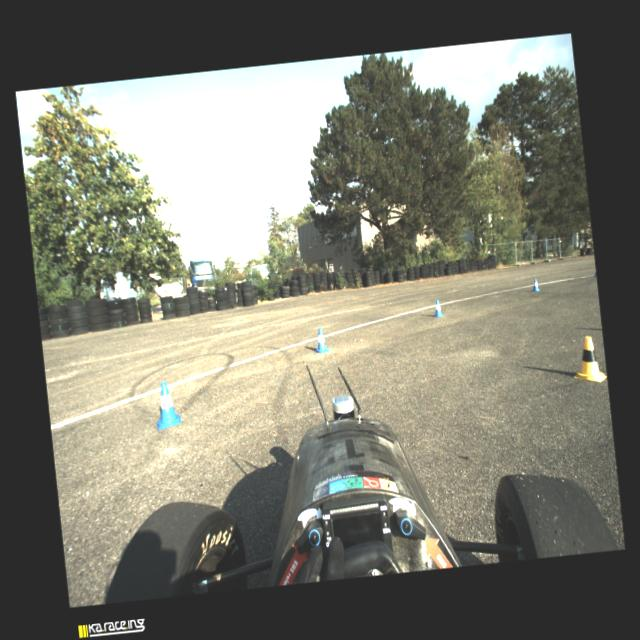blue_cone: (152, 380, 180, 429), (312, 326, 330, 353), (432, 298, 443, 316), (531, 278, 539, 292)
yellow_cone: (570, 334, 606, 384)
